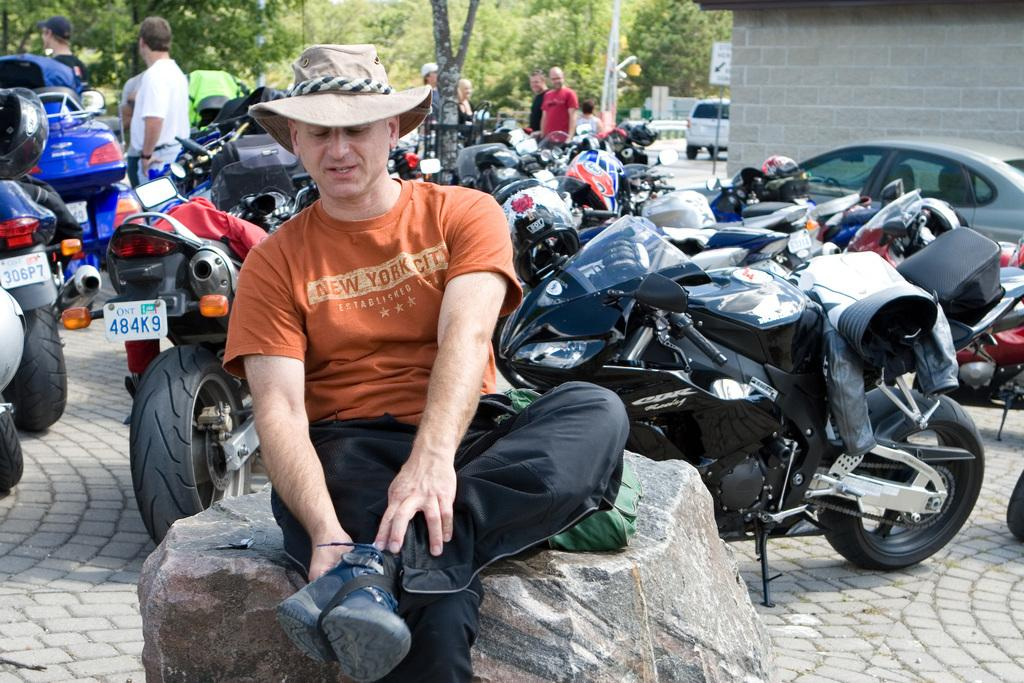helmet: (476, 178, 580, 289), (0, 87, 49, 181), (563, 149, 628, 217), (761, 155, 799, 181)
nohelmet: (247, 42, 435, 203), (137, 15, 173, 64), (35, 15, 73, 51), (528, 68, 547, 94), (549, 66, 565, 92), (457, 78, 473, 102), (581, 98, 595, 117)
